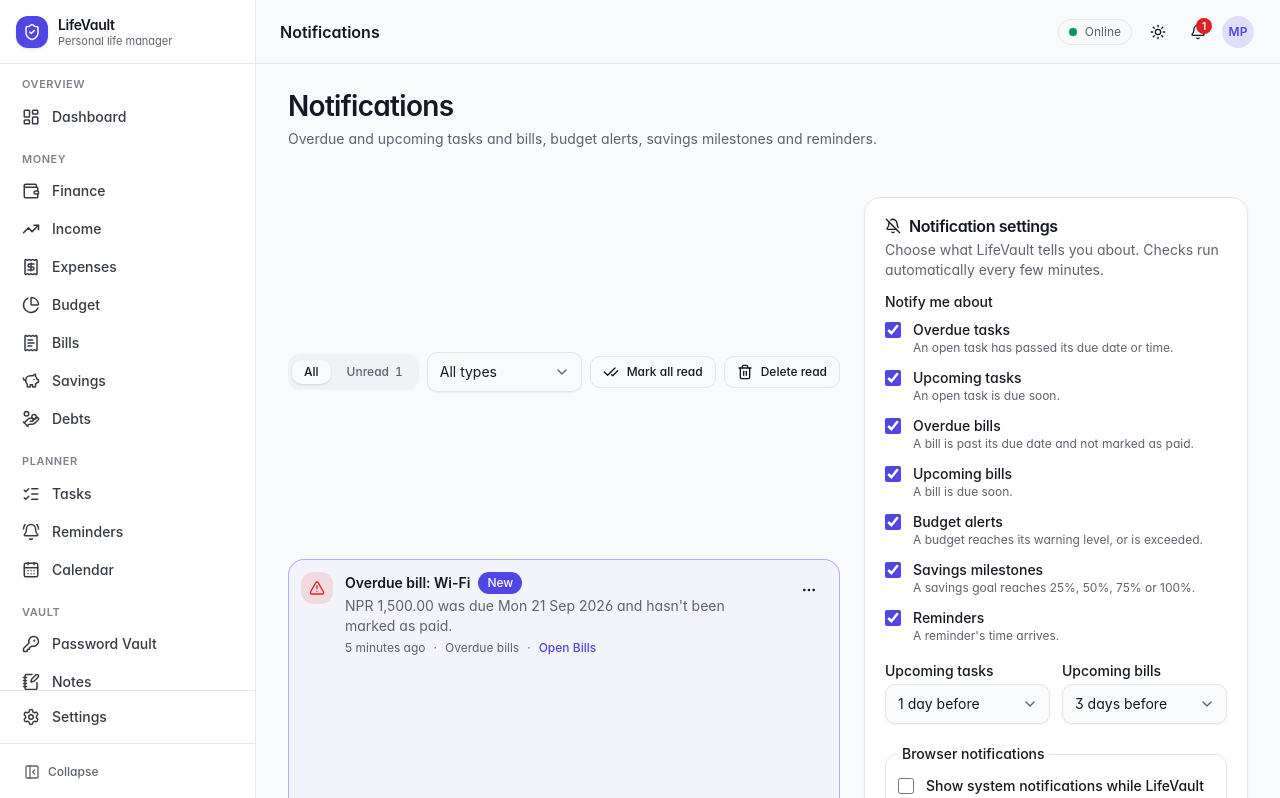
Test: notifications page › marks all read and deletes read notifications
Click the button "Mark all read". click: click(653, 372)
box: [590,356,716,388]
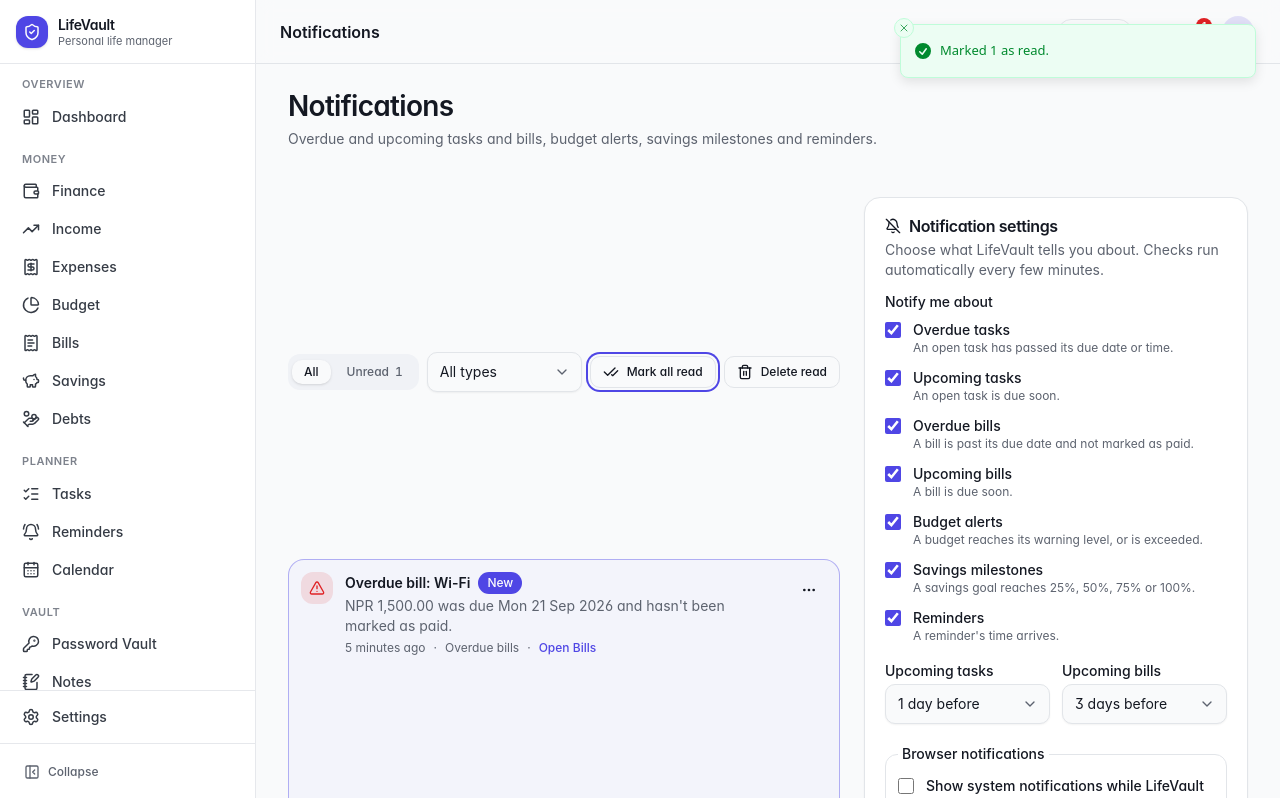
Expected: the text "Marked 1 as read." is shown, [940,41,1049,60]
Click the button "Delete read". click: click(782, 372)
box: [724,356,840,388]
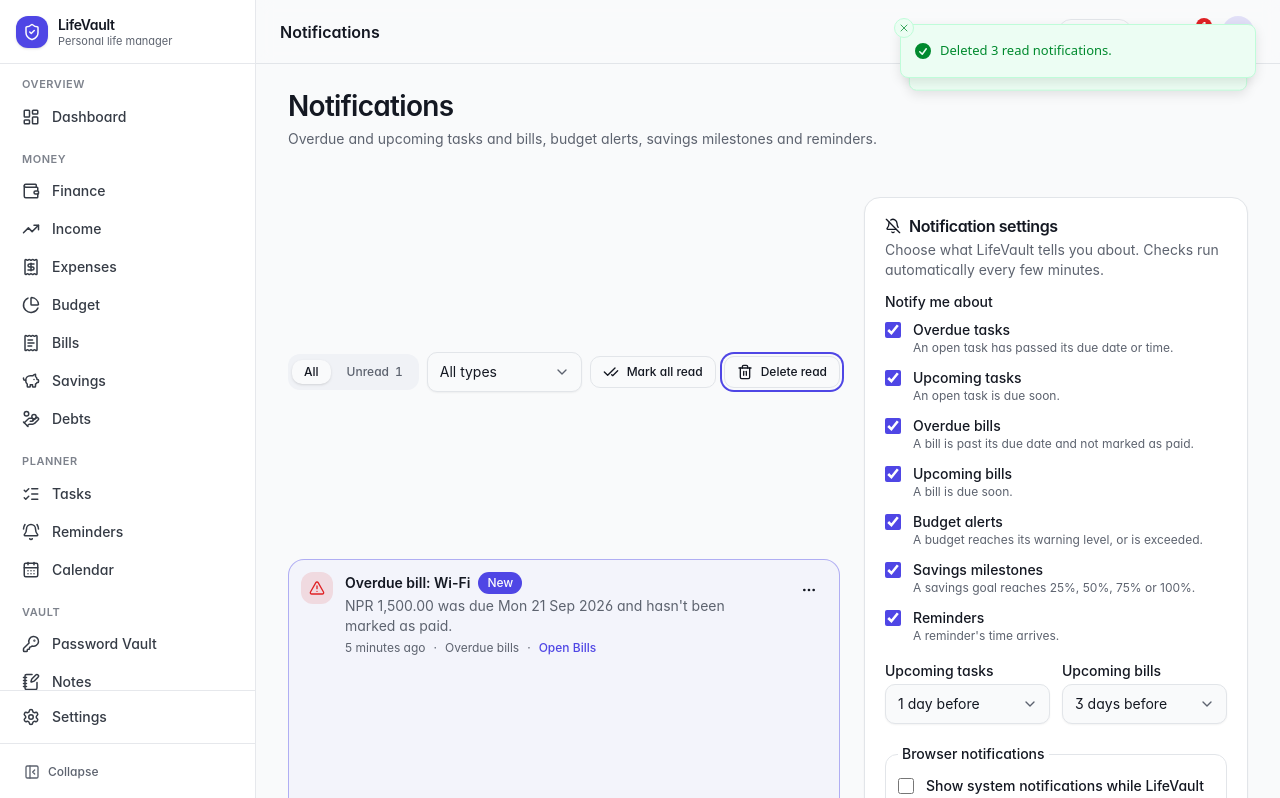
Expected: the text "Deleted 3 read notifications." is shown, [940,41,1112,60]
